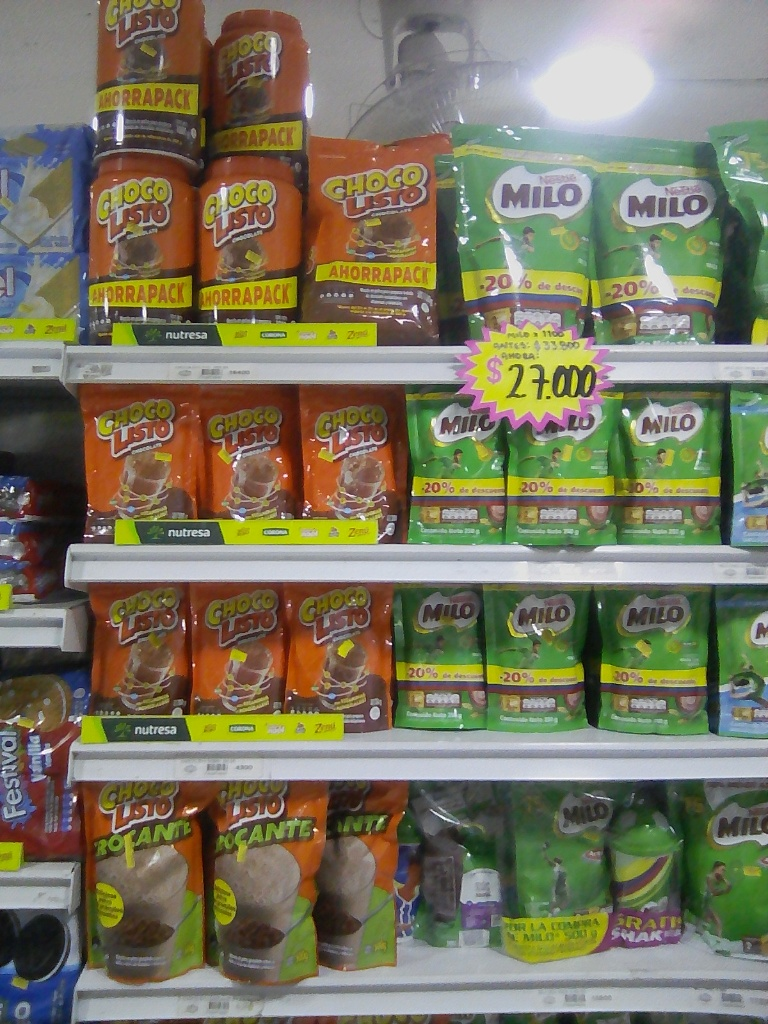COL0170102DYP50000: (83, 783, 212, 980)
COL0170103DYP44000: (304, 130, 447, 345)
COL0170103TRR00100: (93, 0, 202, 165)
COL0170203DYP25000: (410, 389, 503, 547)
COL0170203DYP50000: (503, 784, 609, 923)
COL0170205DYP20000: (714, 586, 766, 732)
COL0170205DYP50000: (680, 786, 768, 950)
